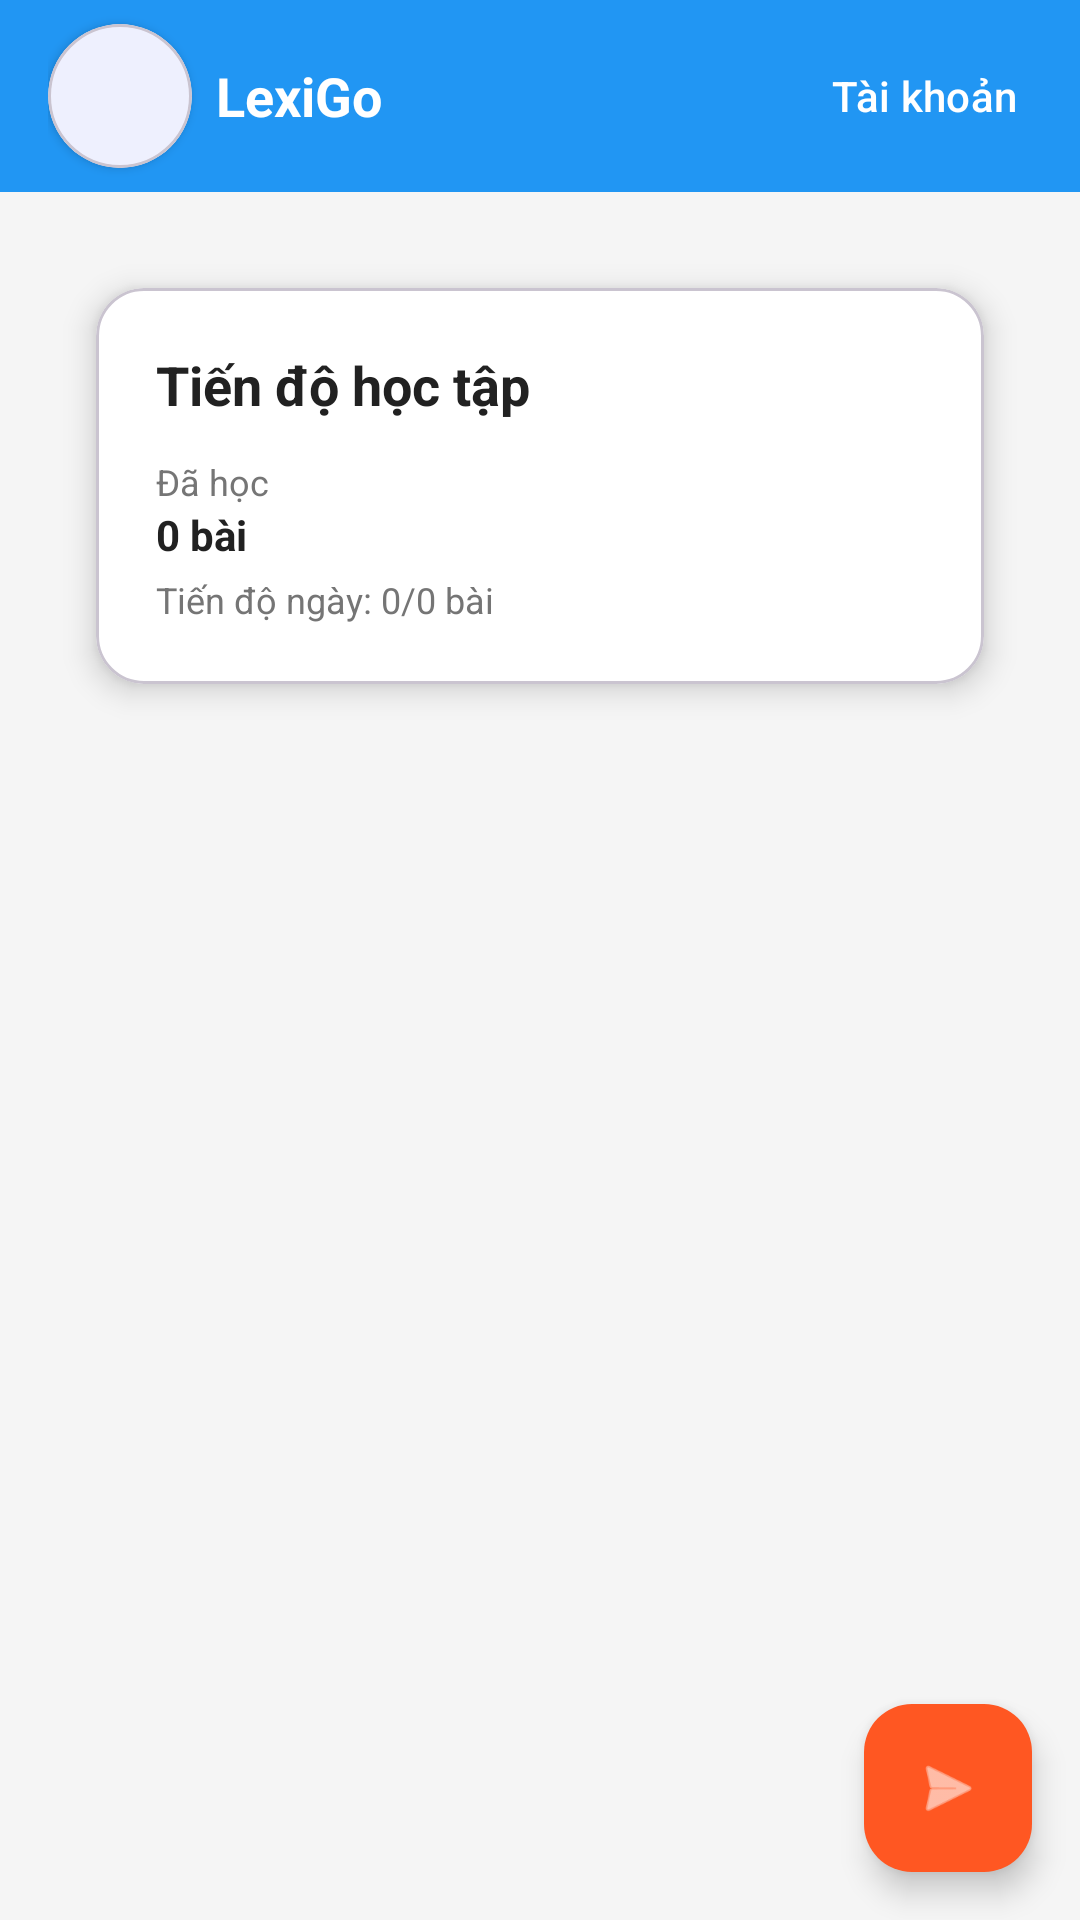

Point at icon controls on the screen. Image size 1080w x 1920h, points as (x,y).
Chat: (948,1788)
